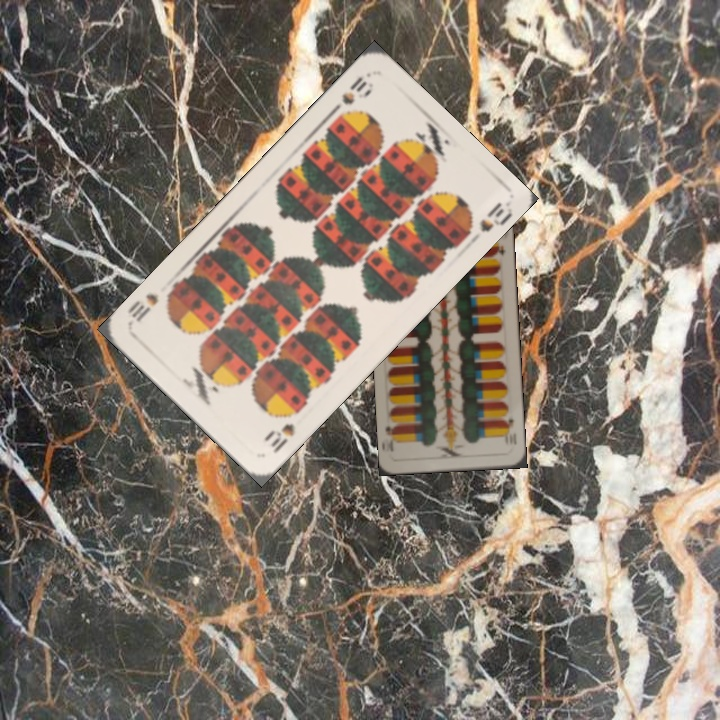E10: (500, 415, 519, 447)
S10: (260, 405, 303, 456), (337, 72, 376, 108)
